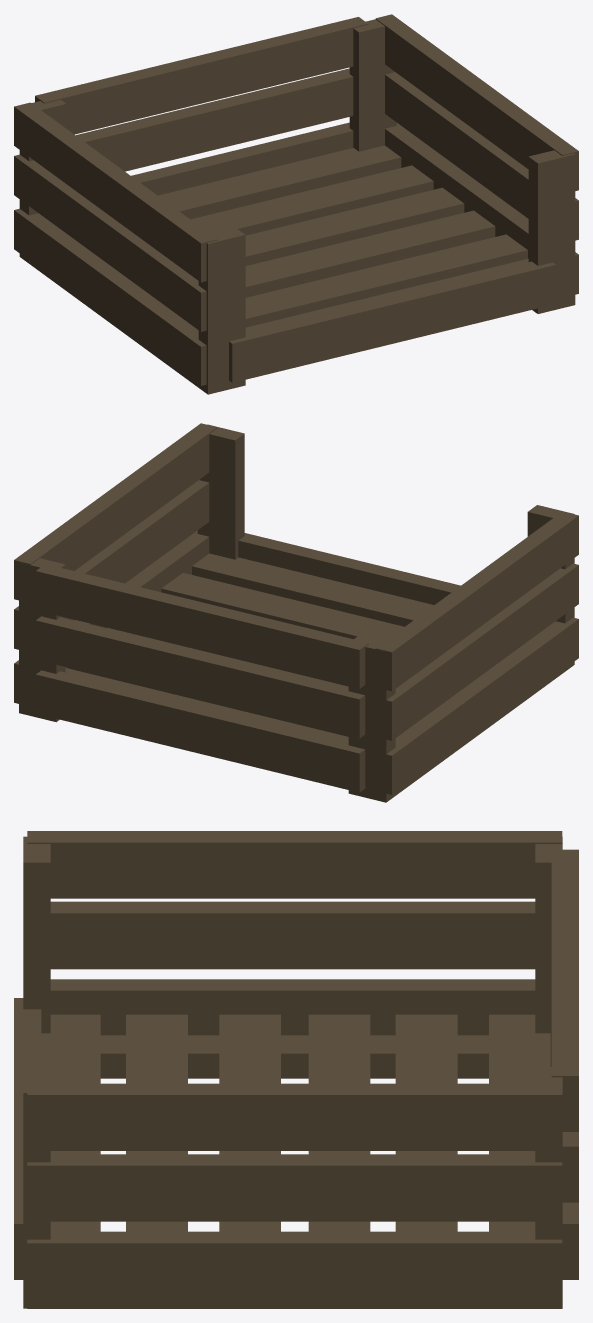
Rendered from crate.glb.
The picture shows the model from 3 angles, top to bottom: view 1: azimuth 30°, elevation 25°; view 2: azimuth 150°, elevation 25°; view 3: azimuth 270°, elevation 25°; orthographic projection. The views are drawn at different scales.
Visible parts, largest first — view 1: Cube.001; view 2: Cube.001; view 3: Cube.001.
Boxes of the visible parts, x1=… form: Cube.001: x1=14, y1=14, x2=578, y2=394; Cube.001: x1=14, y1=423, x2=578, y2=802; Cube.001: x1=14, y1=831, x2=578, y2=1308.
Bounding box in the file's own units: 2.06 × 0.7926 × 1.87.
